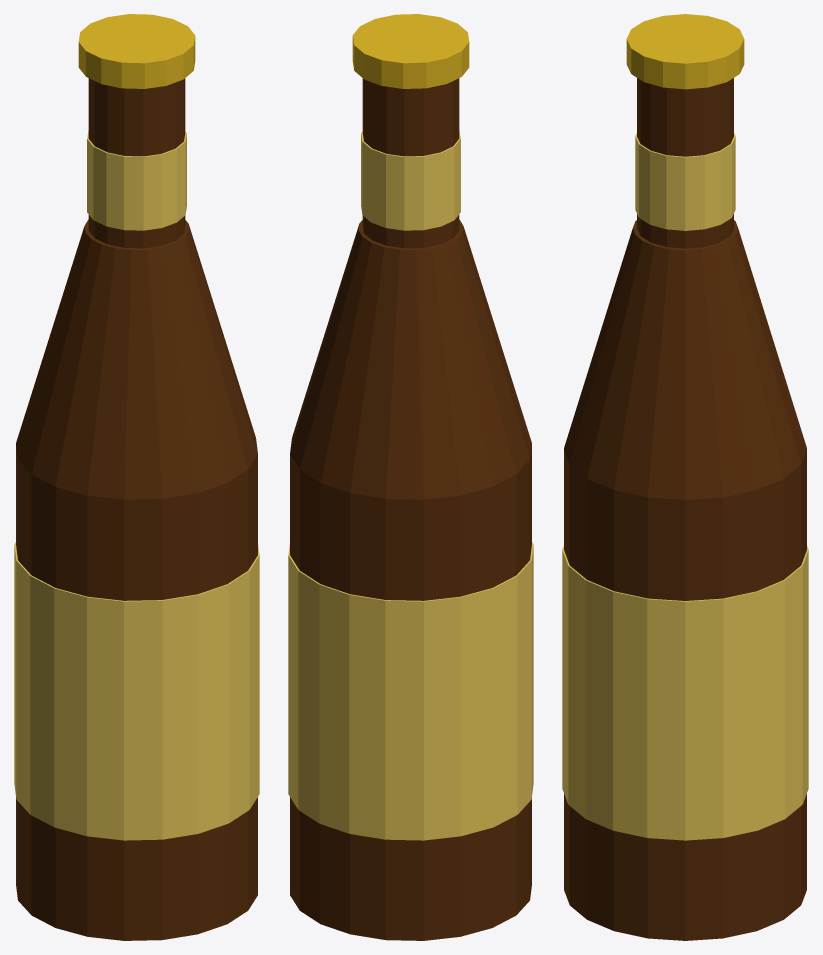
Rendered from Grocery_Beer_Bottle.obj.
3 renders of one model, left to right at view 1: azimuth 30°, elevation 25°; view 2: azimuth 150°, elevation 25°; view 3: azimuth 270°, elevation 25°, orthographic.
Parts seen in each view (by area): view 1: Beer_Body_Label, Beer_Body, Beer_Shoulder, Beer_Neck, Beer_Crown_Cap, Beer_Neck_Label; view 2: Beer_Body_Label, Beer_Body, Beer_Shoulder, Beer_Neck, Beer_Crown_Cap, Beer_Neck_Label; view 3: Beer_Body_Label, Beer_Body, Beer_Shoulder, Beer_Neck, Beer_Crown_Cap, Beer_Neck_Label.
Boxes of the visible parts, x1=… form: Beer_Body_Label: x1=14, y1=542, x2=259, y2=840; Beer_Body: x1=16, y1=445, x2=257, y2=940; Beer_Shoulder: x1=16, y1=219, x2=257, y2=499; Beer_Neck: x1=88, y1=78, x2=185, y2=248; Beer_Crown_Cap: x1=78, y1=14, x2=195, y2=88; Beer_Neck_Label: x1=87, y1=131, x2=186, y2=230; Beer_Body_Label: x1=288, y1=542, x2=533, y2=840; Beer_Body: x1=290, y1=445, x2=531, y2=940; Beer_Shoulder: x1=290, y1=219, x2=531, y2=499; Beer_Neck: x1=362, y1=78, x2=459, y2=248; Beer_Crown_Cap: x1=352, y1=14, x2=469, y2=88; Beer_Neck_Label: x1=361, y1=131, x2=460, y2=230; Beer_Body_Label: x1=562, y1=545, x2=808, y2=840; Beer_Body: x1=564, y1=449, x2=806, y2=940; Beer_Shoulder: x1=564, y1=220, x2=806, y2=499; Beer_Neck: x1=637, y1=78, x2=733, y2=248; Beer_Crown_Cap: x1=626, y1=14, x2=744, y2=89; Beer_Neck_Label: x1=635, y1=133, x2=735, y2=230.
Size of the model in its own units: 0.0608 by 0.2315 by 0.0608.
